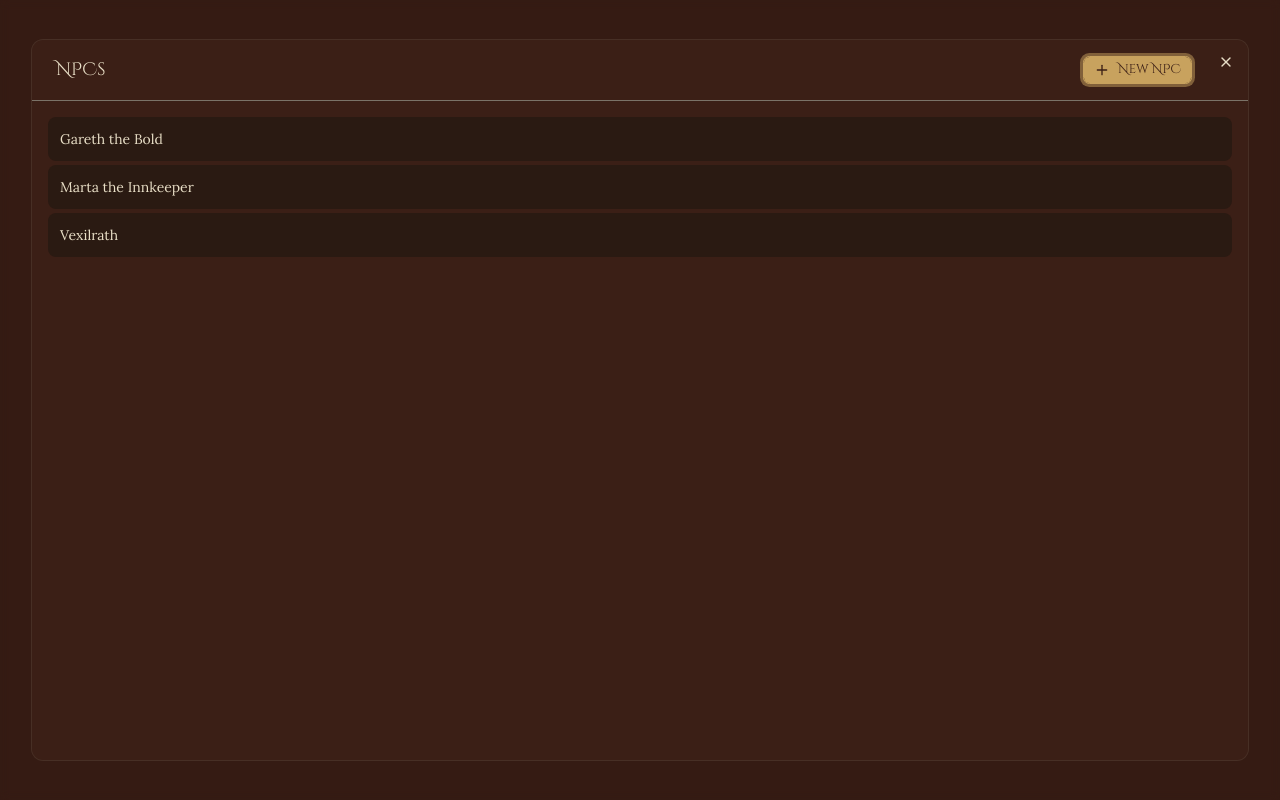
Test: MasterDetailModal — Detail Sidebar › closes sidebar when close button is clicked
Click the text "Gareth the Bold".
click(112, 139)  # box [60, 130, 163, 148]
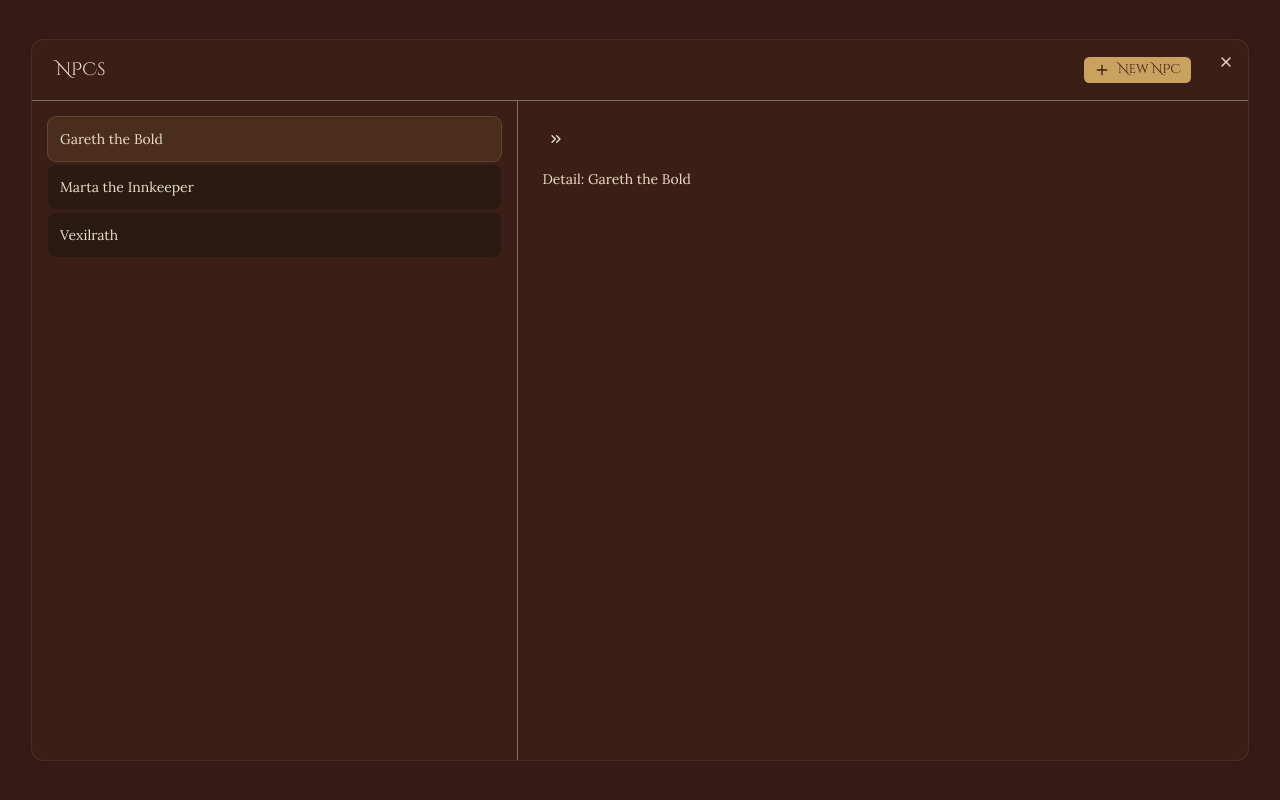
Expected: the text "Detail: Gareth the Bold" is shown, [542, 170, 691, 188]
Click the button named "close detail".
click(556, 139)  # box [542, 125, 570, 153]
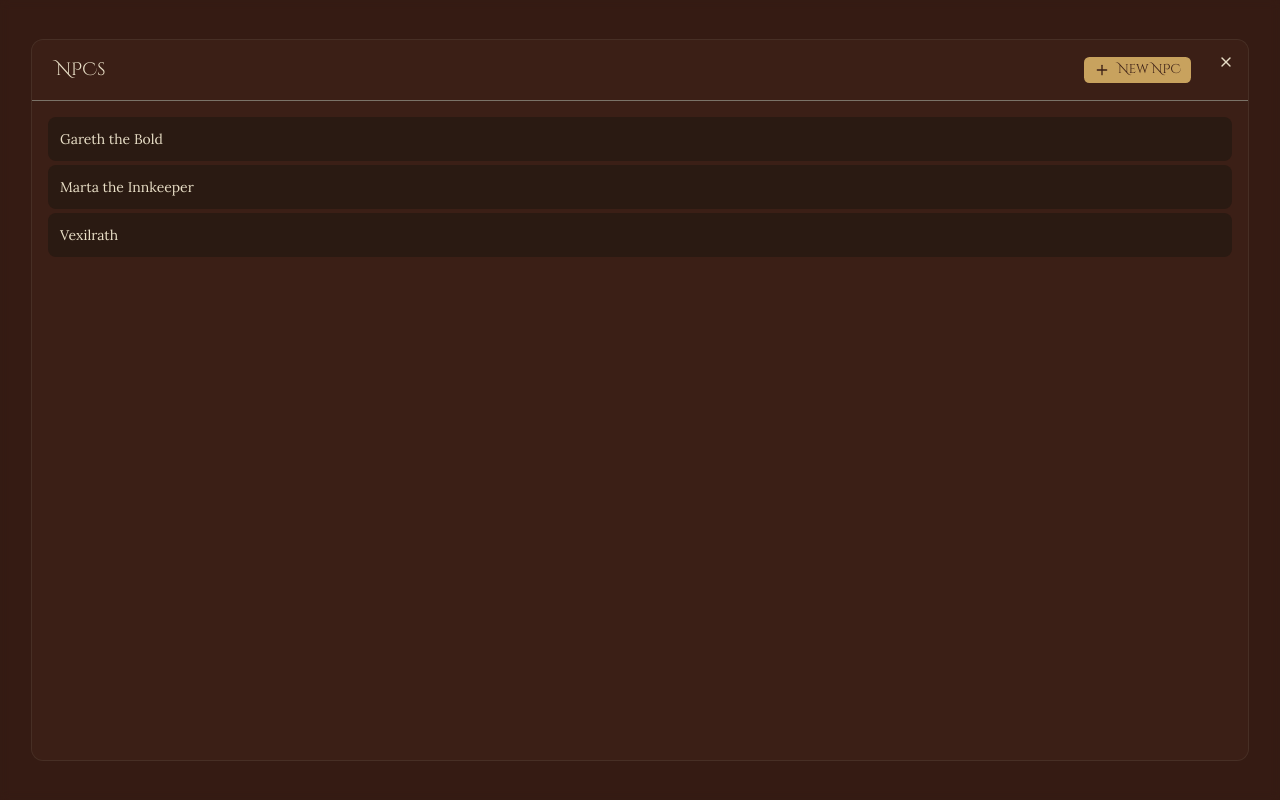
Expected: the text "Detail: Gareth the Bold" is gone
